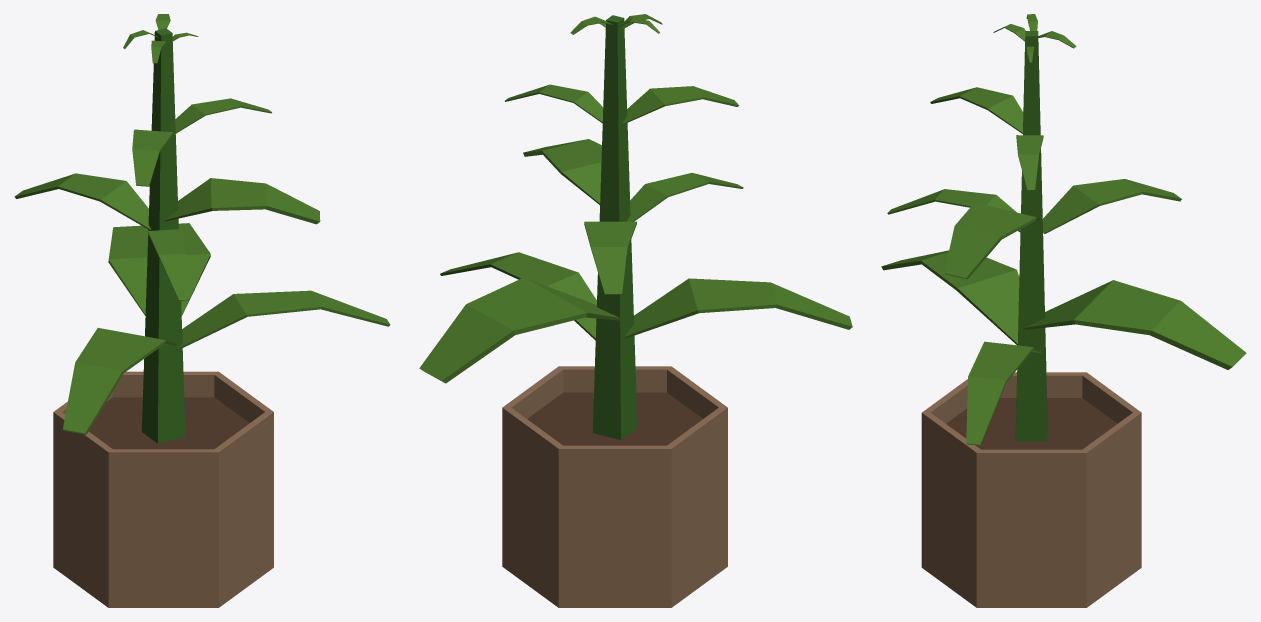
The model's file is Potted Plant.glb.
The picture shows the model from 3 angles, left to right: view 1: azimuth 30°, elevation 25°; view 2: azimuth 150°, elevation 25°; view 3: azimuth 270°, elevation 25°; orthographic projection. The views are drawn at different scales.
Parts seen in each view (by area): view 1: Plant Pot, Stem, Dirt, Plant Leaf L1 001, Plant Leaf L1 003, Plant Leaf L2 005, Plant Leaf L1 002, Plant Leaf L2 004, Plant Leaf L2 006, Plant Leaf L3 007, Plant Leaf L3 008; view 2: Plant Pot, Stem, Plant Leaf L1 002, Plant Leaf L1 001, Dirt, Plant Leaf L1 003, Plant Leaf L2 004, Plant Leaf L2 005, Plant Leaf L2 006, Plant Leaf L3 007, Plant Leaf L3 008; view 3: Plant Pot, Stem, Plant Leaf L1 002, Dirt, Plant Leaf L1 001, Plant Leaf L1 003, Plant Leaf L2 005, Plant Leaf L2 004, Plant Leaf L3 007, Plant Leaf L2 006, Plant Leaf L3 008.
Boxes of the visible parts, box(x1,y1,x2,y2) form: Plant Pot: box(53, 371, 273, 607); Stem: box(141, 28, 185, 443); Dirt: box(88, 397, 249, 449); Plant Leaf L1 001: box(62, 328, 176, 434); Plant Leaf L1 003: box(174, 290, 390, 351); Plant Leaf L2 005: box(164, 178, 320, 224); Plant Leaf L1 002: box(108, 223, 210, 316); Plant Leaf L2 004: box(14, 173, 151, 230); Plant Leaf L2 006: box(148, 229, 188, 300); Plant Leaf L3 007: box(132, 129, 173, 186); Plant Leaf L3 008: box(175, 98, 271, 133); Plant Pot: box(502, 366, 727, 607); Stem: box(592, 15, 637, 439); Plant Leaf L1 002: box(419, 277, 621, 383); Plant Leaf L1 001: box(624, 278, 852, 338); Dirt: box(527, 392, 702, 445); Plant Leaf L1 003: box(440, 252, 596, 340); Plant Leaf L2 004: box(584, 221, 636, 294); Plant Leaf L2 005: box(523, 139, 601, 204); Plant Leaf L2 006: box(627, 173, 743, 221); Plant Leaf L3 007: box(622, 86, 738, 124); Plant Leaf L3 008: box(505, 84, 603, 123); Plant Pot: box(921, 372, 1141, 607); Stem: box(1015, 31, 1047, 441); Plant Leaf L1 002: box(1024, 280, 1246, 369); Dirt: box(946, 398, 1117, 449); Plant Leaf L1 001: box(881, 250, 1019, 345); Plant Leaf L1 003: box(966, 341, 1042, 445); Plant Leaf L2 005: box(944, 202, 1039, 279); Plant Leaf L2 004: box(1042, 179, 1181, 233); Plant Leaf L3 007: box(930, 87, 1023, 133); Plant Leaf L2 006: box(887, 189, 1020, 232); Plant Leaf L3 008: box(1016, 135, 1043, 190).
Bounding box in the file's own units: 3.81 × 5.4 × 3.32.
